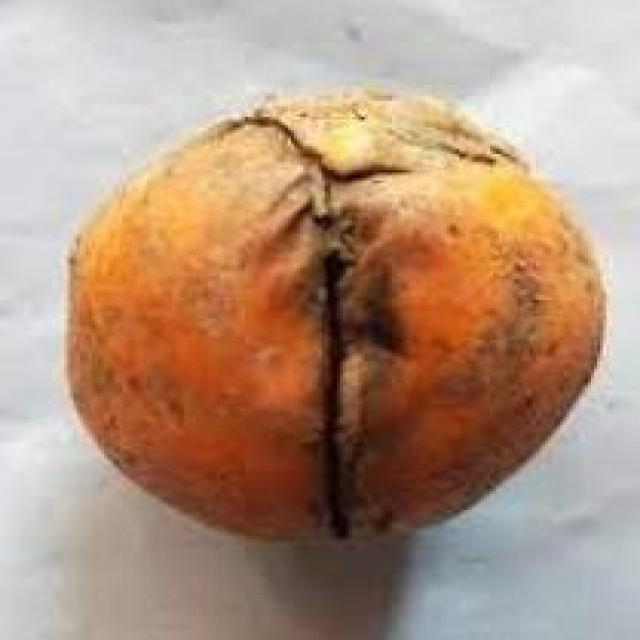damaged: (67, 88, 600, 536)
